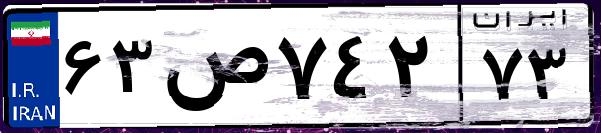2: (385, 28, 445, 110)
3: (525, 38, 570, 115), (110, 28, 158, 98)
4: (330, 28, 385, 110)
6: (57, 26, 110, 100)
7: (270, 28, 330, 110), (475, 38, 525, 113)
ص: (158, 20, 270, 120)
